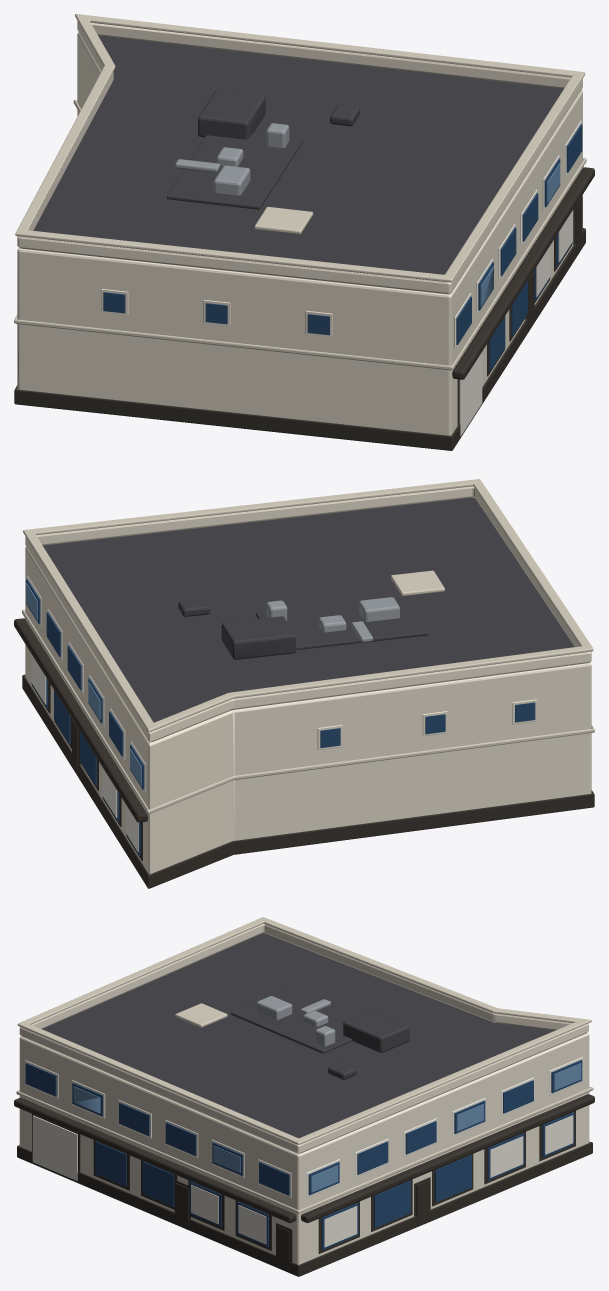
Rendered from 400-brannan.glb.
The picture shows the model from 3 angles, top to bottom: view 1: azimuth 30°, elevation 25°; view 2: azimuth 150°, elevation 25°; view 3: azimuth 270°, elevation 25°; orthographic projection. The views are drawn at different scales.
Visible parts, largest first — view 1: body, grp_Toy_stone, grp_Toy_sand, grp_Toy_ink, grp_Toy_roofd, grp_Toy_glass, grp_Toy_steel, grp_Toy_trim, grp_Toy_trim_Glow, grp_Toy_glass_Glow; view 2: body, grp_Toy_stone, grp_Toy_sand, grp_Toy_ink, grp_Toy_roofd, grp_Toy_glass, grp_Toy_steel, grp_Toy_trim_Glow, grp_Toy_trim, grp_Toy_glass_Glow; view 3: body, grp_Toy_ink, grp_Toy_glass, grp_Toy_stone, grp_Toy_sand, grp_Toy_trim, grp_Toy_roofd, grp_Toy_trim_Glow, grp_Toy_glass_Glow, grp_Toy_steel.
Part boxes in pixels (<box>): body: <box>17,32,582,435</box>; grp_Toy_stone: <box>14,14,586,370</box>; grp_Toy_sand: <box>17,21,582,337</box>; grp_Toy_ink: <box>14,166,594,450</box>; grp_Toy_roofd: <box>167,89,359,209</box>; grp_Toy_glass: <box>103,124,582,370</box>; grp_Toy_steel: <box>175,123,289,195</box>; grp_Toy_trim: <box>454,120,581,436</box>; grp_Toy_trim_Glow: <box>536,211,572,296</box>; grp_Toy_glass_Glow: <box>480,163,560,306</box>; body: <box>25,497,591,874</box>; grp_Toy_stone: <box>22,479,594,813</box>; grp_Toy_sand: <box>25,486,591,750</box>; grp_Toy_ink: <box>14,618,594,888</box>; grp_Toy_roofd: <box>178,596,428,659</box>; grp_Toy_glass: <box>26,579,535,855</box>; grp_Toy_steel: <box>266,597,399,642</box>; grp_Toy_trim_Glow: <box>31,654,138,852</box>; grp_Toy_trim: <box>26,575,145,792</box>; grp_Toy_glass_Glow: <box>26,583,141,786</box>; body: <box>19,933,589,1264</box>; grp_Toy_ink: <box>14,1094,594,1276</box>; grp_Toy_glass: <box>25,1060,582,1250</box>; grp_Toy_stone: <box>16,917,593,1213</box>; grp_Toy_sand: <box>19,924,588,1153</box>; grp_Toy_trim: <box>25,1057,582,1197</box>; grp_Toy_roofd: <box>231,990,409,1079</box>; grp_Toy_trim_Glow: <box>191,1115,573,1247</box>; grp_Toy_glass_Glow: <box>73,1063,581,1192</box>; grp_Toy_steel: <box>256,996,335,1046</box>.
Size of the model in its own units: 31.4 by 8.8 by 33.78.
